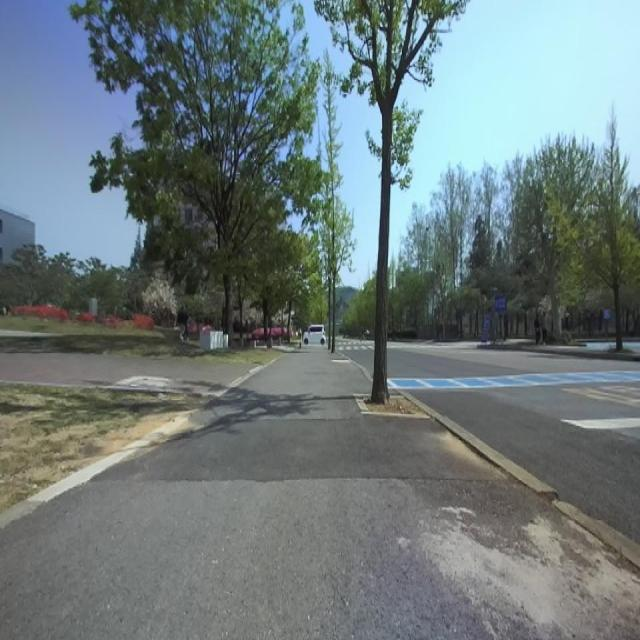sidewalk: (0, 348, 640, 639)
